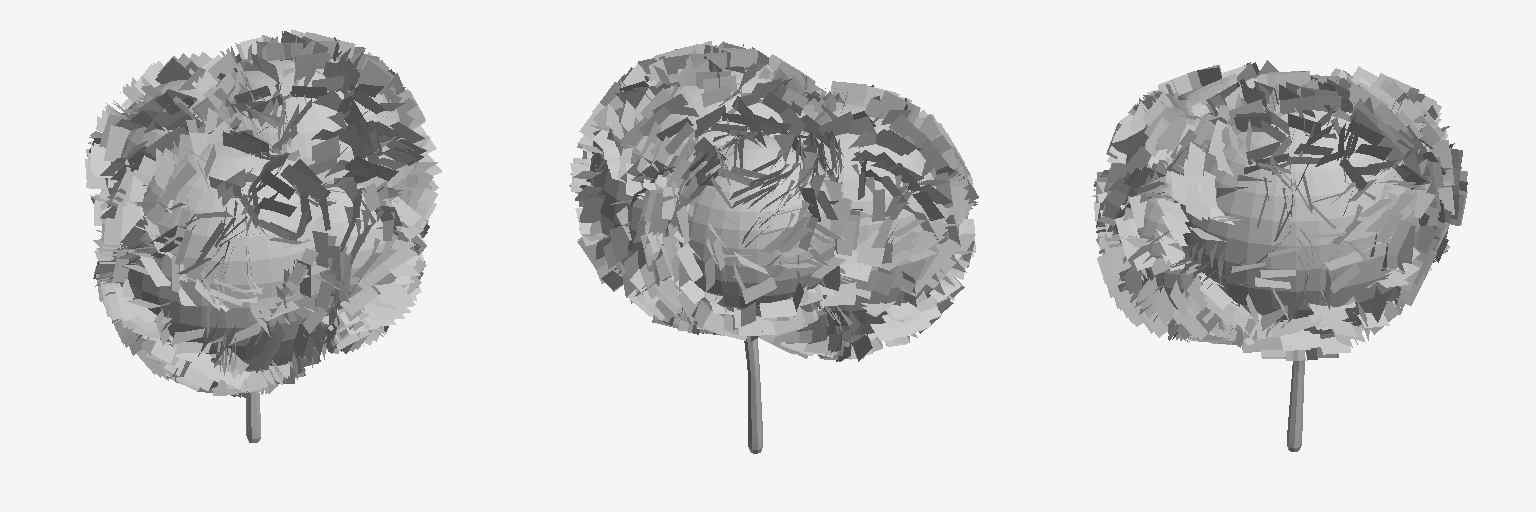
File: Tree.obj
3 renders of one model, left to right at view 1: azimuth 30°, elevation 25°; view 2: azimuth 150°, elevation 25°; view 3: azimuth 270°, elevation 25°, orthographic.
Visible parts, largest first — view 1: Plane.001, Sphere, Cube; view 2: Plane.001, Sphere, Cube; view 3: Plane.001, Sphere, Cube.
Part boxes in pixels (left/top/right/bottom): Plane.001: left=85, top=29, right=441, bottom=398; Sphere: left=105, top=58, right=418, bottom=371; Cube: left=246, top=392, right=260, bottom=442; Plane.001: left=569, top=41, right=978, bottom=361; Sphere: left=590, top=69, right=959, bottom=341; Cube: left=744, top=336, right=762, bottom=453; Plane.001: left=1092, top=60, right=1467, bottom=360; Sphere: left=1114, top=88, right=1429, bottom=338; Cube: left=1287, top=361, right=1304, bottom=451.
Size of the model in its own units: 0.9052 by 0.9854 by 0.8679.